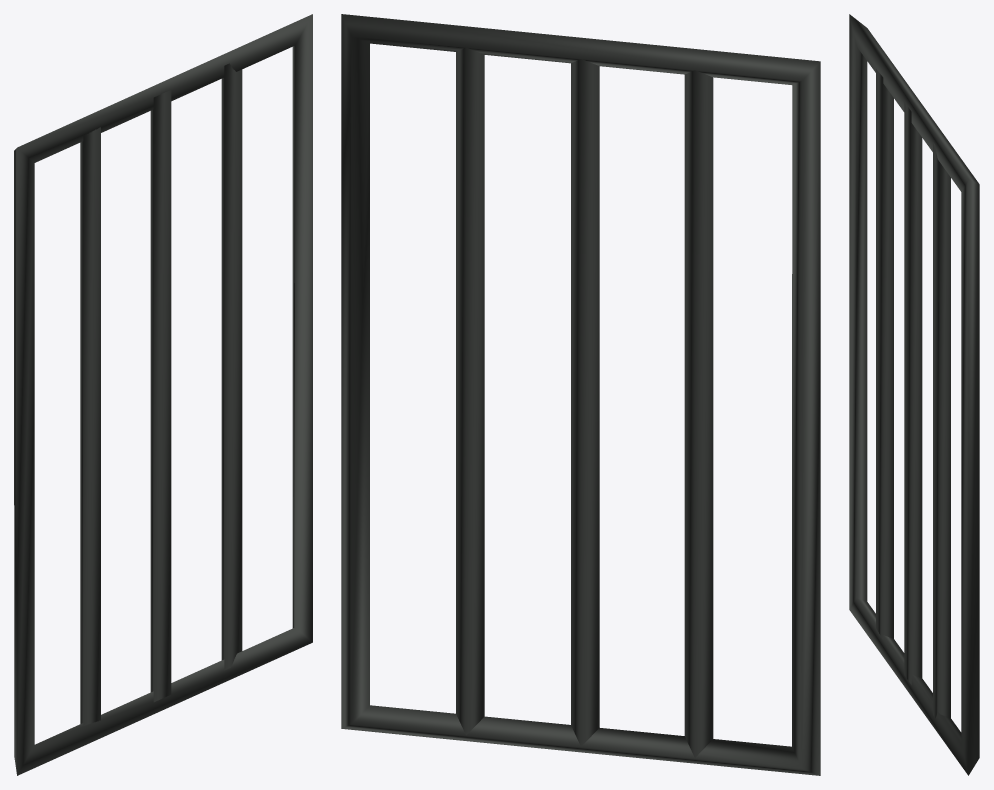
File: CINEMA3_SHOT1_DOOR.obj
The picture shows the model from 3 angles, left to right: view 1: azimuth 30°, elevation 25°; view 2: azimuth 150°, elevation 25°; view 3: azimuth 270°, elevation 25°; orthographic projection. The views are drawn at different scales.
Visible parts, largest first — view 1: jaildoor; view 2: jaildoor; view 3: jaildoor.
Part boxes in pixels (x1,y1,x2,y2): jaildoor: (14,14,312,775); jaildoor: (341,14,820,775); jaildoor: (849,14,979,775).
Size of the model in its own units: 196 by 328 by 64.91.
